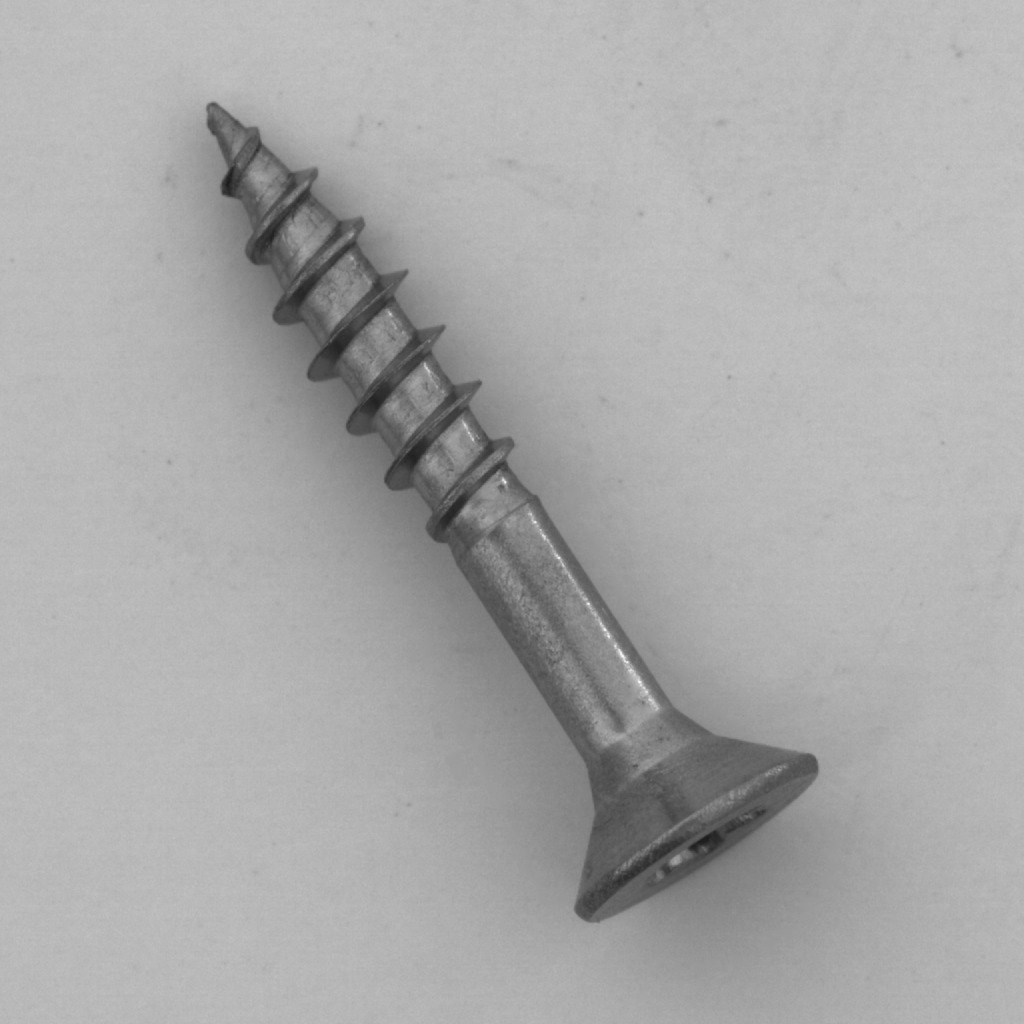good: (183, 79, 839, 937)
